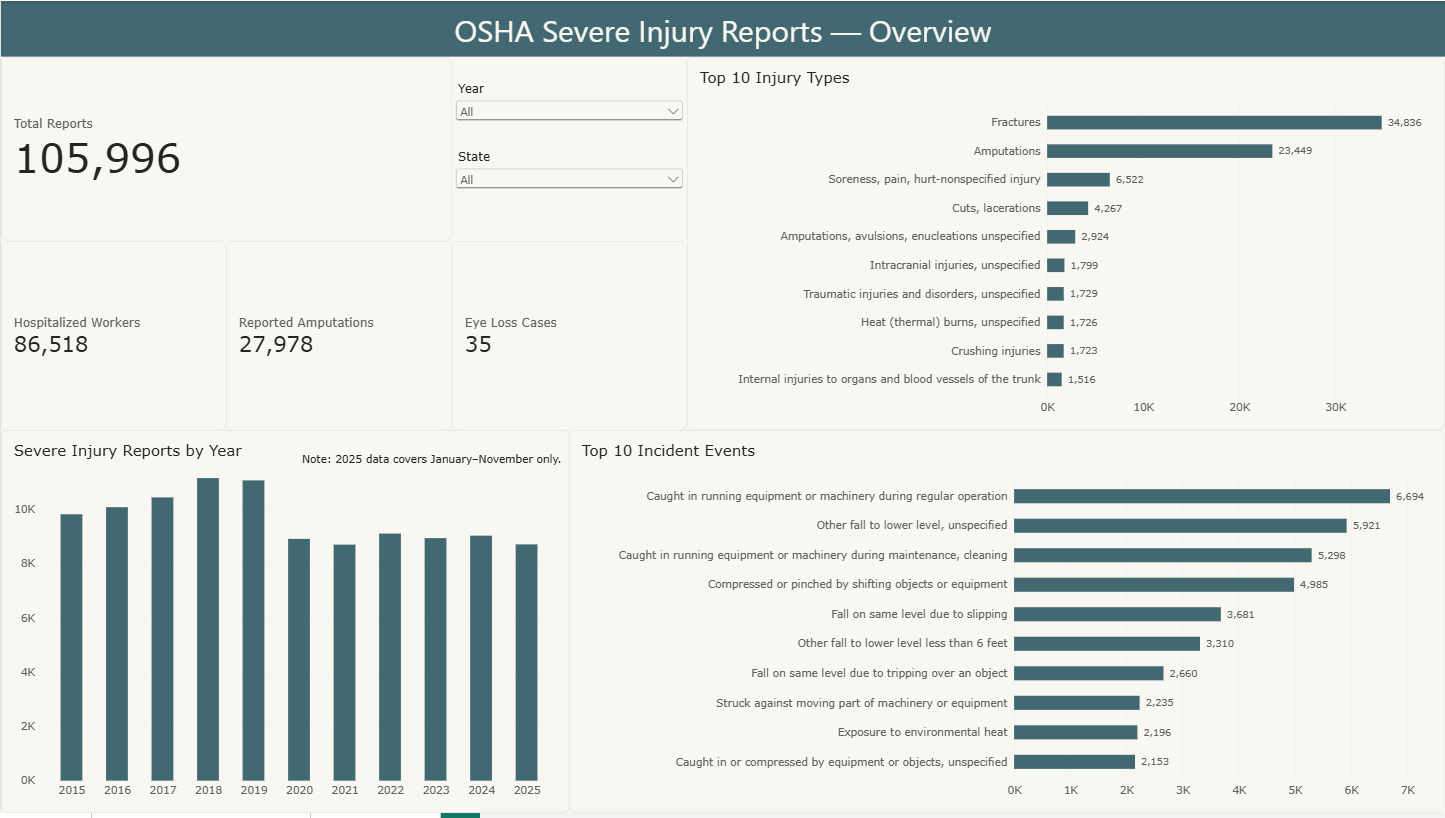

The page's visual inventory and layout, read from the dashboard file:
{"tool":"powerbi","page":{"name":"Safety Overview","canvas":[1920,1080],"ordinal":0},"visuals":[{"type":"clusteredColumnChart","title":"Severe Injury Reports by Year","fields":{"Category":["OSHA_Severe_Injuries_2015_2025.EventDate.Variation.Date Hierarchy.Year"],"Y":["OSHA_Severe_Injuries_2015_2025.Total Reports"]},"box":[0,570.7,756,509.3],"z":0},{"type":"clusteredBarChart","title":"Top 10 Injury Types","fields":{"Category":["OSHA_Severe_Injuries_2015_2025.NatureTitle"],"Y":["OSHA_Severe_Injuries_2015_2025.Total Reports"]},"box":[912,74.7,1008,496],"z":1000},{"type":"textbox","box":[400,600,350.7,25.3],"z":2000},{"type":"clusteredBarChart","title":"Top 10 Incident Events","fields":{"Category":["OSHA_Severe_Injuries_2015_2025.EventTitle"],"Y":["OSHA_Severe_Injuries_2015_2025.Total Reports"]},"box":[756,570.7,1164,509.3],"z":3000},{"type":"cardVisual","fields":{"Data":["OSHA_Severe_Injuries_2015_2025.Total Reports"]},"box":[0,74.7,600,244],"z":4000},{"type":"cardVisual","fields":{"Data":["OSHA_Severe_Injuries_2015_2025.Reported Amputations"]},"box":[298.7,318.7,301.3,252],"z":5000},{"type":"cardVisual","title":"Hospitalized Workers","fields":{"Data":["OSHA_Severe_Injuries_2015_2025.Hospitalized Workers"]},"box":[0,318.7,300,252],"z":6000},{"type":"cardVisual","fields":{"Data":["OSHA_Severe_Injuries_2015_2025.Eye Loss Cases"]},"box":[600,318.7,312,252],"z":7000},{"type":"slicer","fields":{"Values":["OSHA_Severe_Injuries_2015_2025.EventDate.Variation.Date Hierarchy.Year"]},"box":[600,106.7,312,90.7],"z":8000},{"type":"slicer","fields":{"Values":["OSHA_Severe_Injuries_2015_2025.State"]},"box":[600,197.3,312,90.7],"z":9000},{"type":"shape","box":[0,0,1920.6,74.5],"z":10000}]}

Visuals, with their boxes in screenshot pixels (x1, y1, x2, y2), scaled from the page's 1920x1080 canvas onto the 1445x818 screenshot:
"Severe Injury Reports by Year" clusteredColumnChart: [0, 432, 569, 817]
"Top 10 Injury Types" clusteredBarChart: [686, 57, 1444, 432]
textbox: [301, 454, 565, 474]
"Top 10 Incident Events" clusteredBarChart: [569, 432, 1444, 817]
cardVisual - OSHA_Severe_Injuries_2015_2025.Total Reports: [0, 57, 452, 241]
cardVisual - OSHA_Severe_Injuries_2015_2025.Reported Amputations: [225, 241, 452, 432]
"Hospitalized Workers" cardVisual: [0, 241, 226, 432]
cardVisual - OSHA_Severe_Injuries_2015_2025.Eye Loss Cases: [452, 241, 686, 432]
slicer - OSHA_Severe_Injuries_2015_2025.EventDate.Variation.Date Hierarchy.Year: [452, 81, 686, 150]
slicer - OSHA_Severe_Injuries_2015_2025.State: [452, 149, 686, 218]
shape: [0, 0, 1444, 56]
